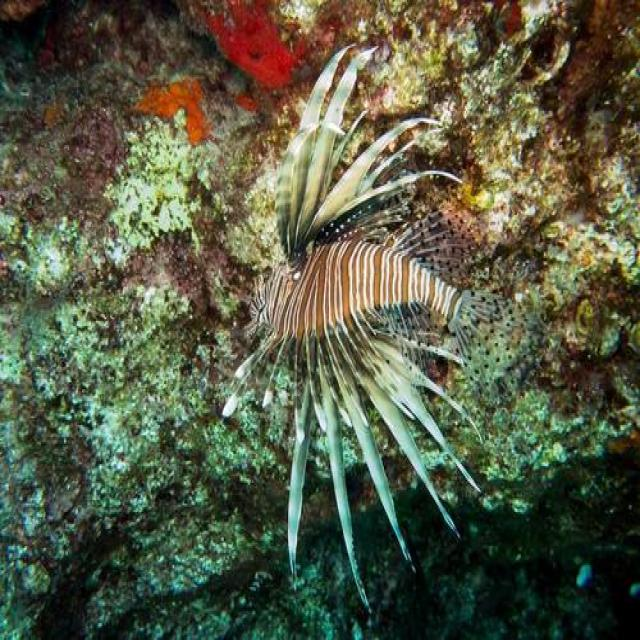Aslan Baligi: (218, 40, 490, 614)
